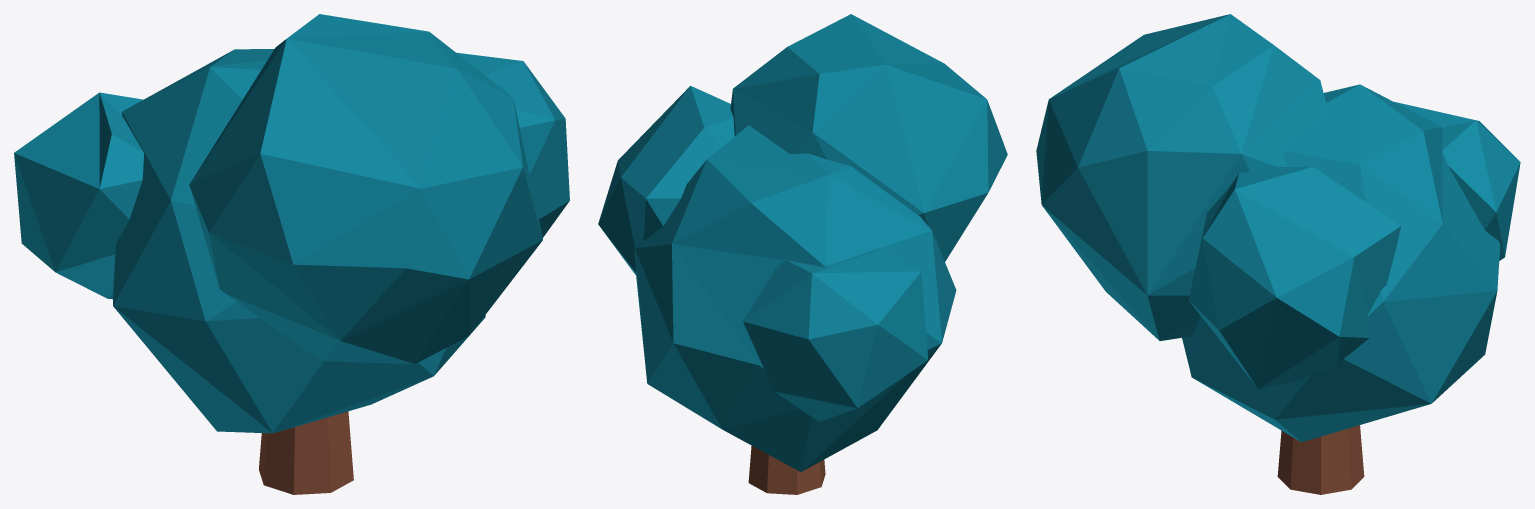
Rendered from Bush_5_summer_blue_mat.fbx.
3 views of the same model, side by side, from view 1: azimuth 30°, elevation 25°; view 2: azimuth 150°, elevation 25°; view 3: azimuth 270°, elevation 25° (orthographic). The views are drawn at different scales.
Visible parts, largest first — view 1: Bush_5_summer_blue_mat; view 2: Bush_5_summer_blue_mat; view 3: Bush_5_summer_blue_mat.
Part boxes in pixels (box(x1,y1,x2,y2)): Bush_5_summer_blue_mat: box(14, 14, 569, 494); Bush_5_summer_blue_mat: box(598, 14, 1007, 494); Bush_5_summer_blue_mat: box(1036, 14, 1520, 494).
Bounding box in the file's own units: 31.34 × 32.92 × 33.43.
